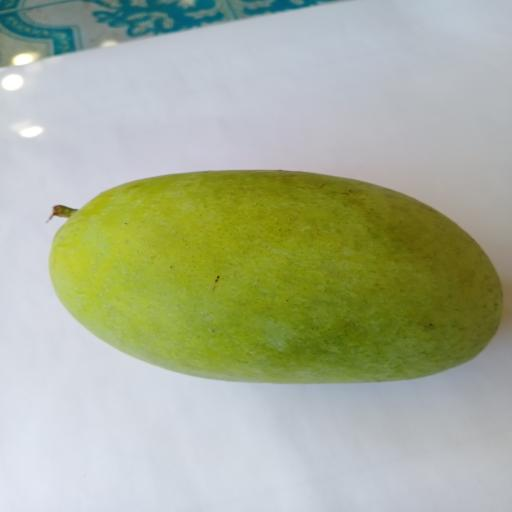mango-unripe: (25, 166, 512, 391)
